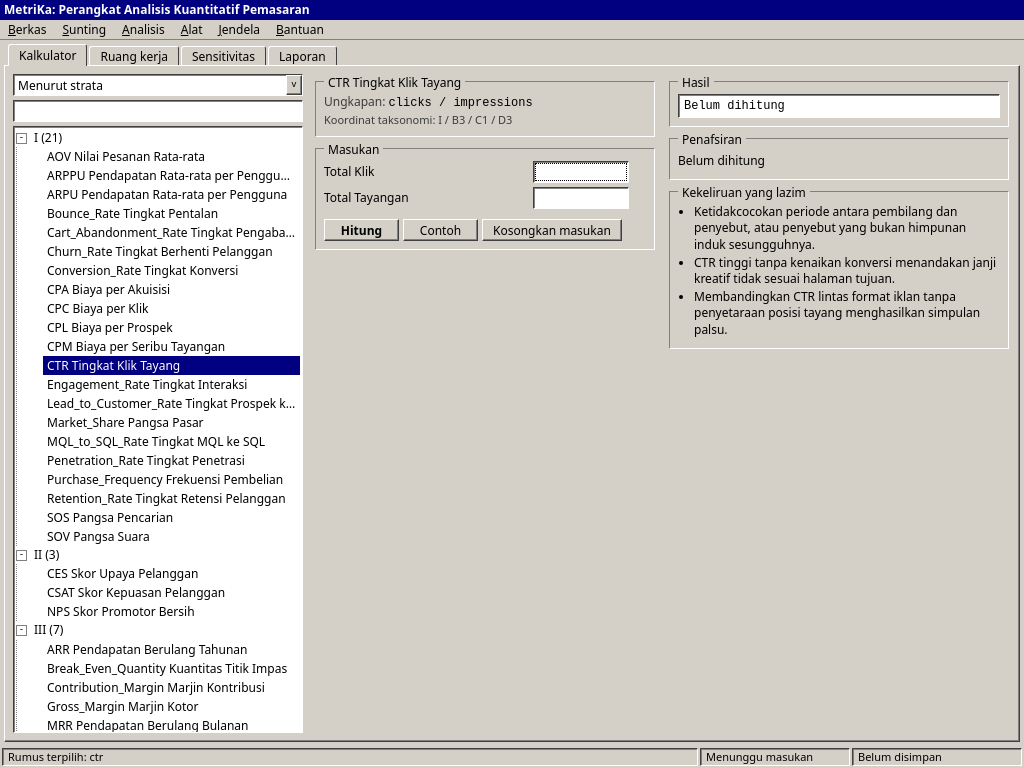
it: the workbench screen › marks a conflicted row with an asterisk and offers a way to settle it
The width and height of the screenshot is (1024, 768).
Click the tab "Ruang kerja": (134, 56) [90,46,179,66]
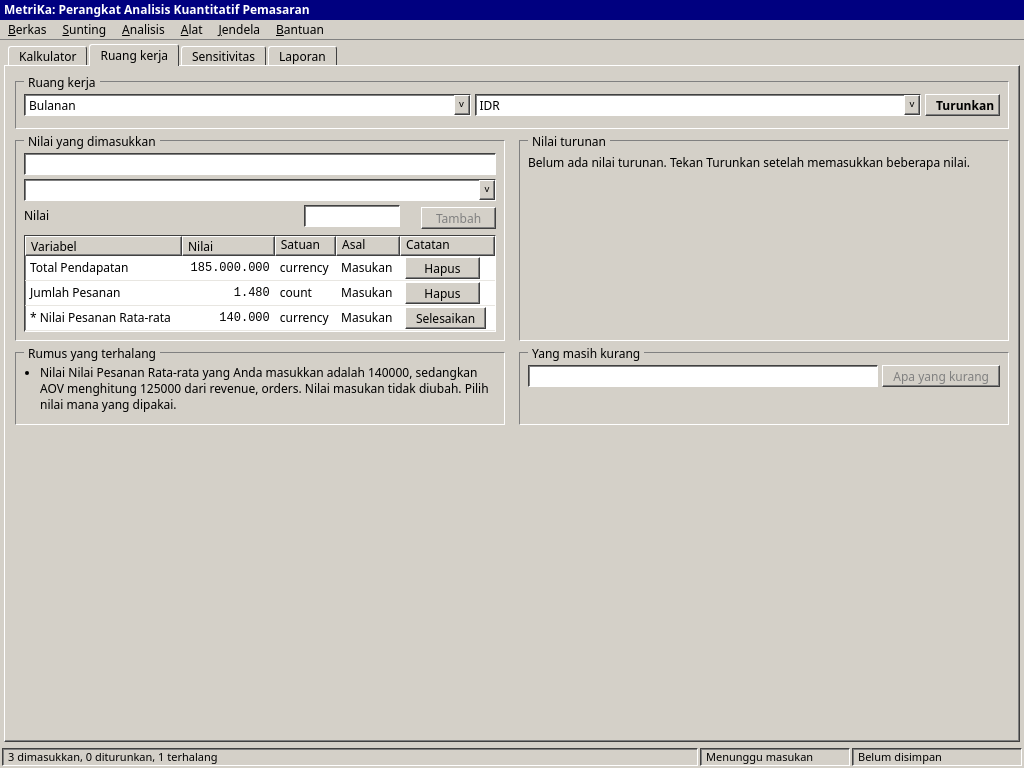
Expected: the text "* Nilai Pesanan Rata-rata" is shown, [25,306,182,330]
Click the button "Selesaikan": (446, 318) [405,307,486,329]
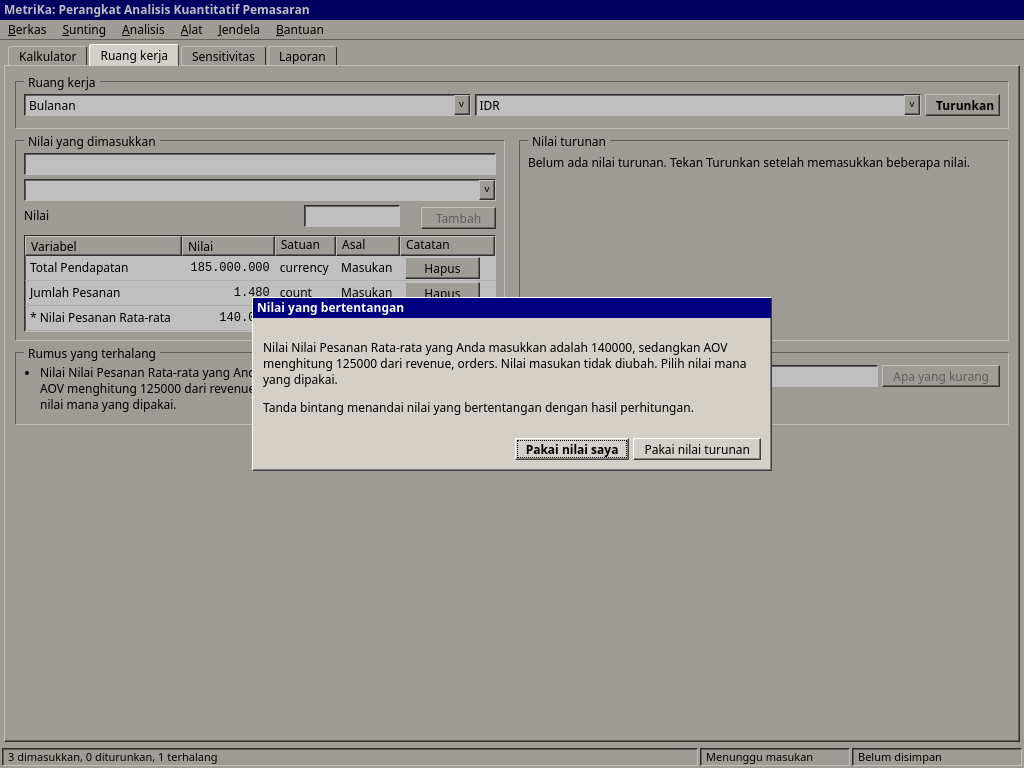
Expected: the dialog "Nilai yang bertentangan" shows "tidak diubah", [263,339,746,388]
Expected: the button "Pakai nilai saya" is shown, [515,438,629,460]
Expected: the button "Pakai nilai turunan" is shown, [633,438,761,460]
